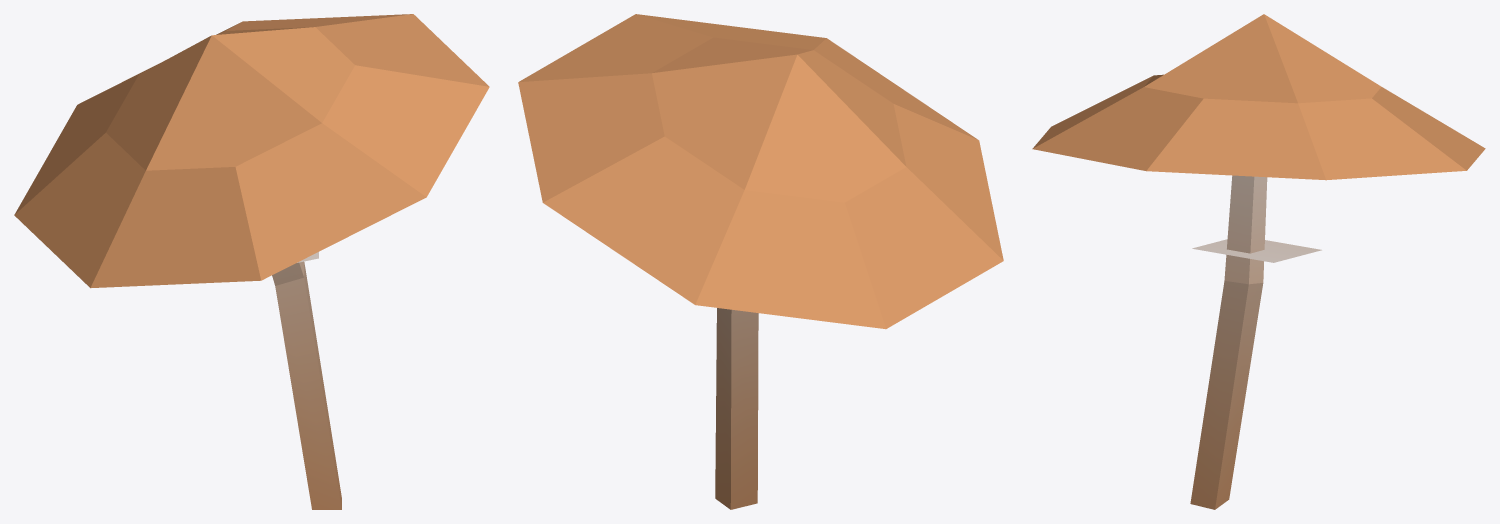
Rendered from Mushroom_i_04.fbx.
3 views of the same model, side by side, from view 1: azimuth 30°, elevation 25°; view 2: azimuth 150°, elevation 25°; view 3: azimuth 270°, elevation 25° (orthographic). The views are drawn at different scales.
Parts seen in each view (by area): view 1: Mushroom_i_04; view 2: Mushroom_i_04; view 3: Mushroom_i_04.
Part boxes in pixels (x1,y1,x2,y2): Mushroom_i_04: (14, 14, 489, 509); Mushroom_i_04: (518, 14, 1003, 509); Mushroom_i_04: (1032, 14, 1485, 509).
Bounding box in the file's own units: 15.74 × 17.91 × 16.46.
